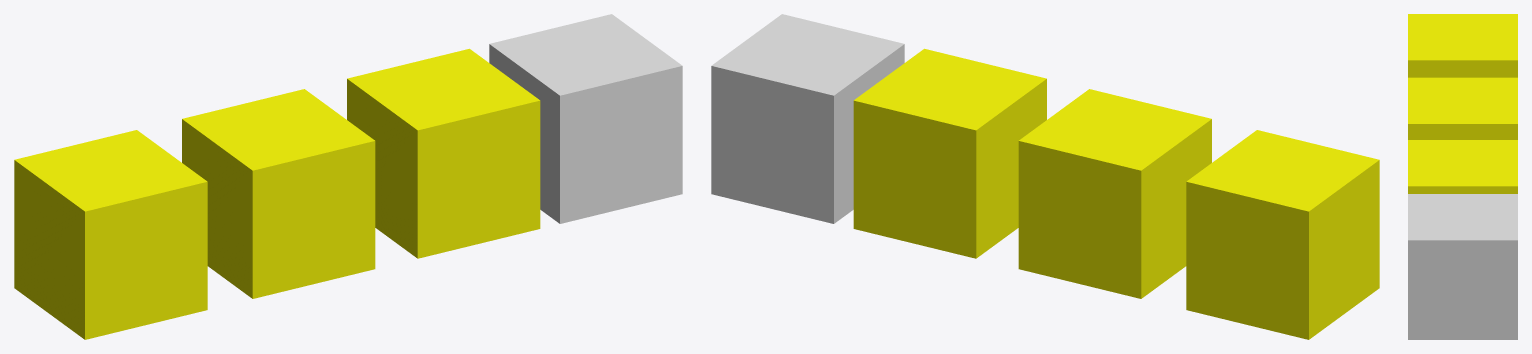
3 views of the same model, side by side, from view 1: azimuth 30°, elevation 25°; view 2: azimuth 150°, elevation 25°; view 3: azimuth 270°, elevation 25° (orthographic). The views are drawn at different scales.
Parts seen in each view (by area): view 1: pCube5, pCube1, pCube2, pCube3; view 2: pCube5, pCube1, pCube2, pCube3; view 3: pCube3, pCube5, pCube1, pCube2.
Boxes of the visible parts, bbox=[...] form: pCube5: bbox=[14, 130, 207, 339]; pCube1: bbox=[182, 89, 375, 298]; pCube2: bbox=[347, 48, 540, 258]; pCube3: bbox=[489, 14, 682, 223]; pCube5: bbox=[1186, 130, 1379, 339]; pCube1: bbox=[1018, 89, 1211, 298]; pCube2: bbox=[853, 48, 1046, 258]; pCube3: bbox=[711, 14, 904, 223]; pCube3: bbox=[1408, 194, 1517, 339]; pCube5: bbox=[1408, 14, 1517, 77]; pCube1: bbox=[1408, 77, 1517, 139]; pCube2: bbox=[1408, 140, 1517, 193].
Bounding box in the file's own units: 2.58 × 0.5288 × 0.5288.
